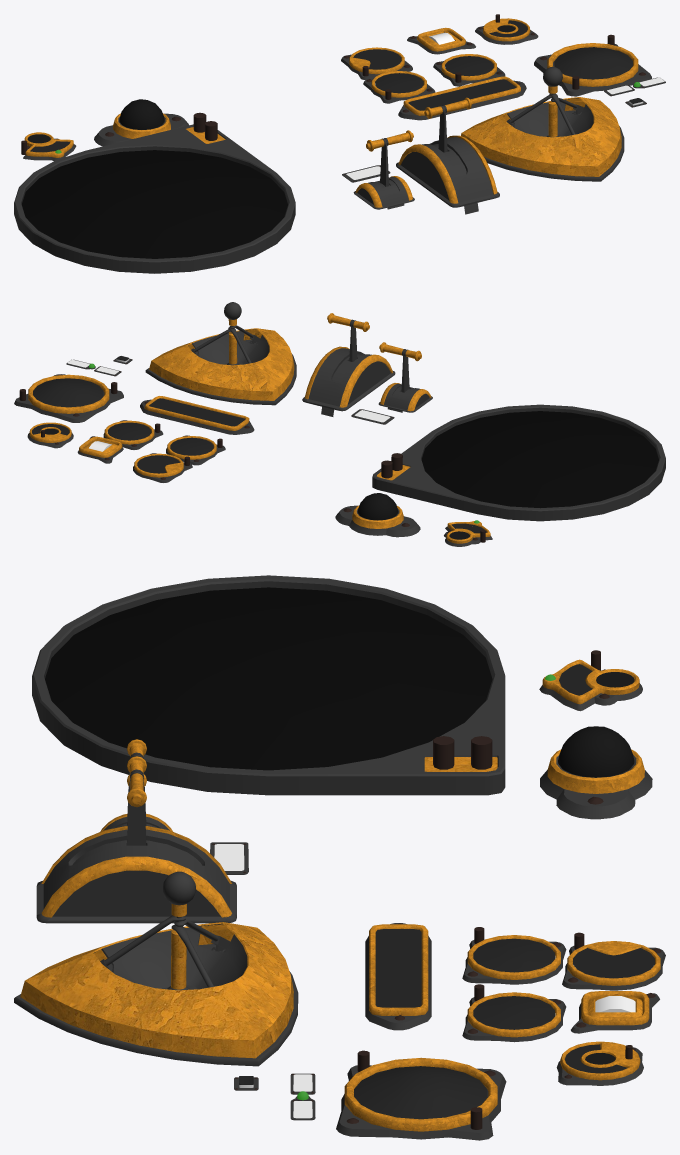
The model's file is Devices.FBX.
3 views of the same model, one above another, from view 1: azimuth 30°, elevation 25°; view 2: azimuth 150°, elevation 25°; view 3: azimuth 270°, elevation 25° (orthographic). The views are drawn at different scales.
Parts seen in each view (by area): view 1: Radar, Circle003, Lever, ArtificialHorizon, Turn, Joy (×2), Altimetr, Speedometr, Variometer, Sphere001, Treckball, Forcemetr (+5 smaller); view 2: Radar, Circle003, Lever, ArtificialHorizon, Turn, Joy (×2), Treckball, Variometer, Speedometr, Altimetr, Voltmetr, Sphere001 (+5 smaller); view 3: Radar, Circle003, Lever, ArtificialHorizon, Turn, Variometer, Altimetr, Treckball, Speedometr, Voltmetr, Sphere001, Forcemetr (+4 smaller).
Boxes of the visible parts, box(x1,y1,x2,y2) form: Radar: box(14, 112, 295, 273); Circle003: box(461, 97, 624, 181); Lever: box(396, 135, 499, 207); ArtificialHorizon: box(534, 34, 651, 96); Turn: box(398, 76, 526, 120); Joy (×2): box(366, 97, 478, 214); Altimetr: box(363, 71, 435, 103); Speedometr: box(433, 54, 505, 86); Variometer: box(341, 47, 412, 79); Sphere001: box(510, 66, 577, 137); Treckball: box(94, 113, 188, 146); Forcemetr: box(475, 14, 538, 44); Radar: box(372, 404, 665, 521); Circle003: box(145, 328, 296, 405); Lever: box(302, 346, 395, 411); ArtificialHorizon: box(14, 374, 123, 422); Turn: box(140, 396, 254, 434); Joy (×2): box(321, 313, 421, 416); Treckball: box(335, 505, 420, 537); Variometer: box(133, 453, 192, 482); Speedometr: box(103, 420, 163, 449); Altimetr: box(166, 435, 225, 465); Voltmetr: box(444, 520, 492, 546); Sphere001: box(193, 302, 253, 365); Radar: box(32, 575, 505, 795); Circle003: box(14, 922, 298, 1066); Lever: box(36, 826, 236, 923); ArtificialHorizon: box(336, 1050, 506, 1140); Turn: box(365, 923, 431, 1030); Variometer: box(562, 932, 665, 990); Altimetr: box(462, 927, 566, 984); Treckball: box(540, 749, 652, 819); Speedometr: box(462, 984, 566, 1042); Voltmetr: box(539, 650, 642, 711); Sphere001: box(104, 871, 218, 990); Forcemetr: box(556, 1041, 643, 1085).
Bounding box in the file's own units: 73.98 × 10.79 × 38.34.
